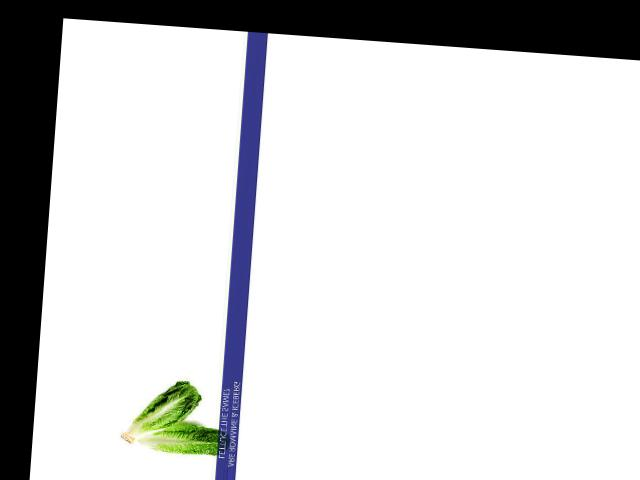lettuce: (120, 378, 208, 452)
